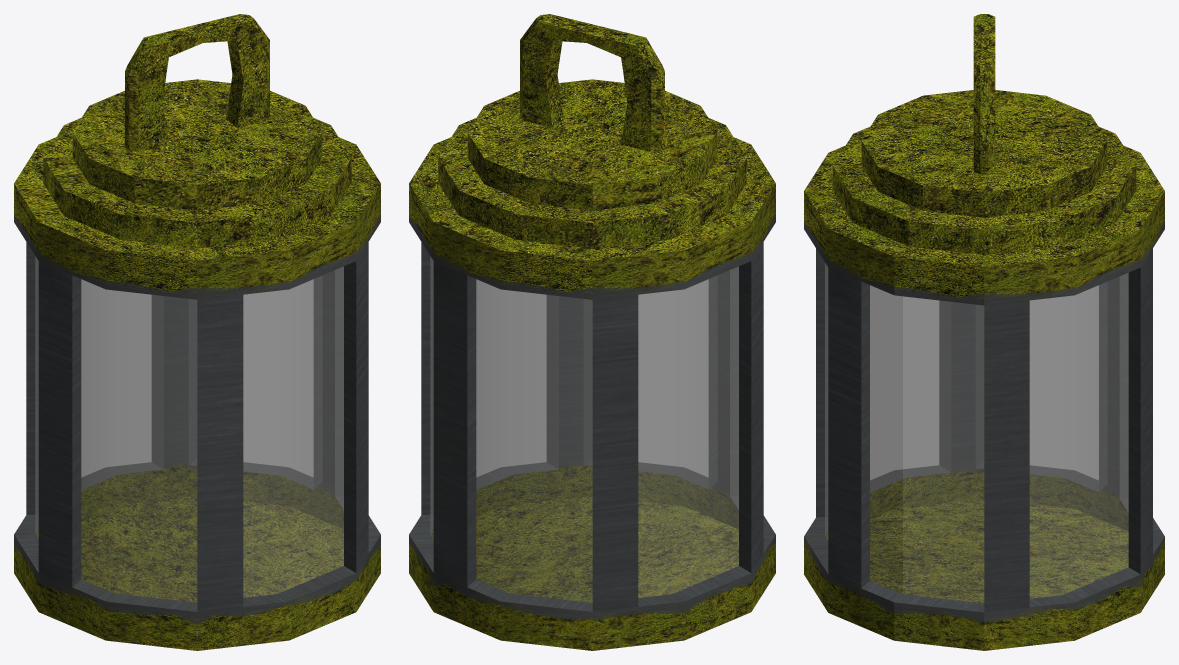
File: earth_lantern.FBX
3 renders of one model, left to right at view 1: azimuth 30°, elevation 25°; view 2: azimuth 150°, elevation 25°; view 3: azimuth 270°, elevation 25°, orthographic.
Parts seen in each view (by area): view 1: earth_lantern; view 2: earth_lantern; view 3: earth_lantern.
Boxes of the visible parts, left/top/right/bottom form: earth_lantern: left=14, top=14, right=380, bottom=650; earth_lantern: left=409, top=14, right=775, bottom=650; earth_lantern: left=804, top=14, right=1164, bottom=650.
Bounding box in the file's own units: 12.99 × 21.25 × 12.99.
2 materials, 1 textured.
